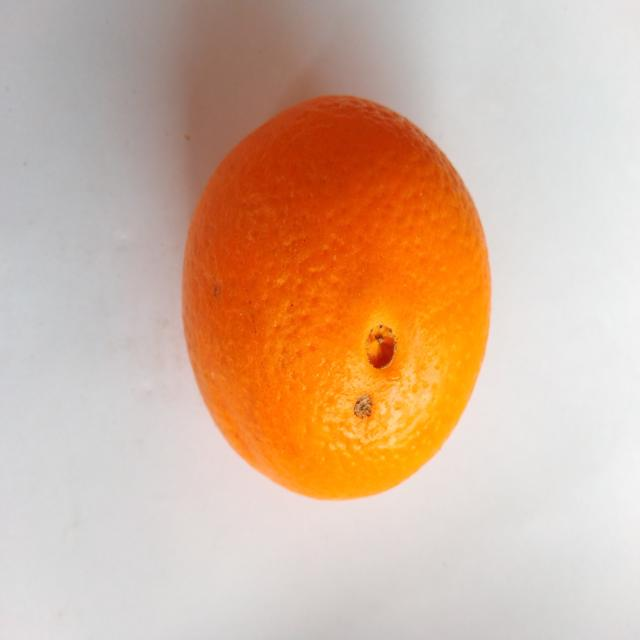orange: (184, 97, 490, 498)
